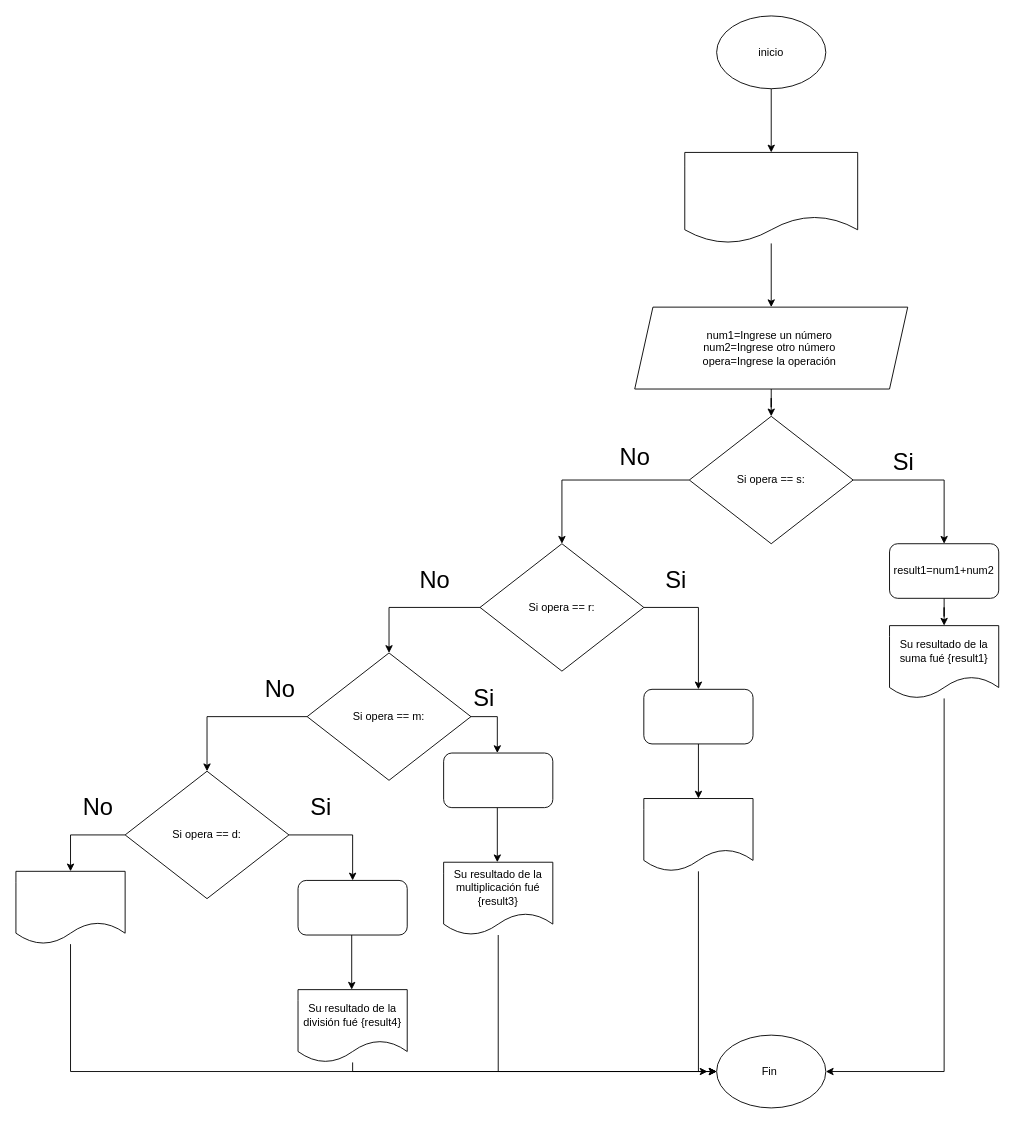
This 1015x1124 diagram has some shape labels left out. Each missing label, with the box of its shape:
La operación no es valida: (15, 870, 125, 944)
result2=num1-num2: (643, 688, 753, 744)
result3=num1*num2: (443, 752, 553, 808)
result4=num1//num2: (297, 880, 407, 935)
Su resultado de la resta fué {result2}: (643, 798, 753, 871)
Suma = s Resta = r Multiplicación = m División= d: (684, 152, 858, 243)
